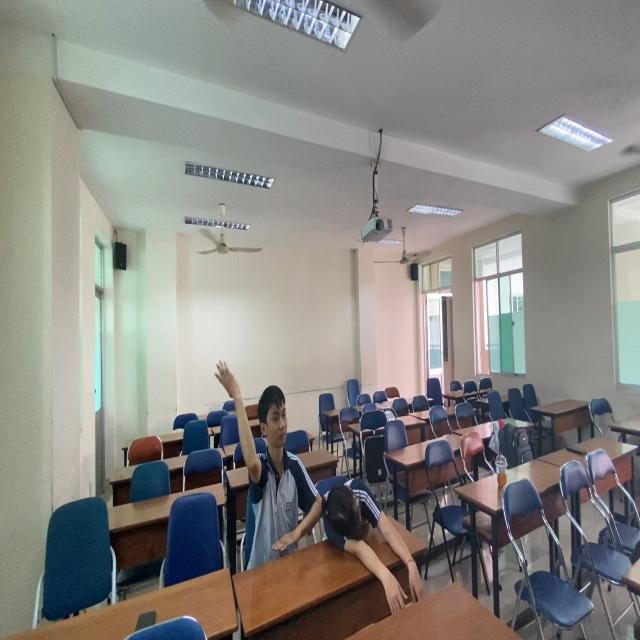raise_hand: (213, 355, 325, 569)
sleep: (317, 476, 406, 571)
